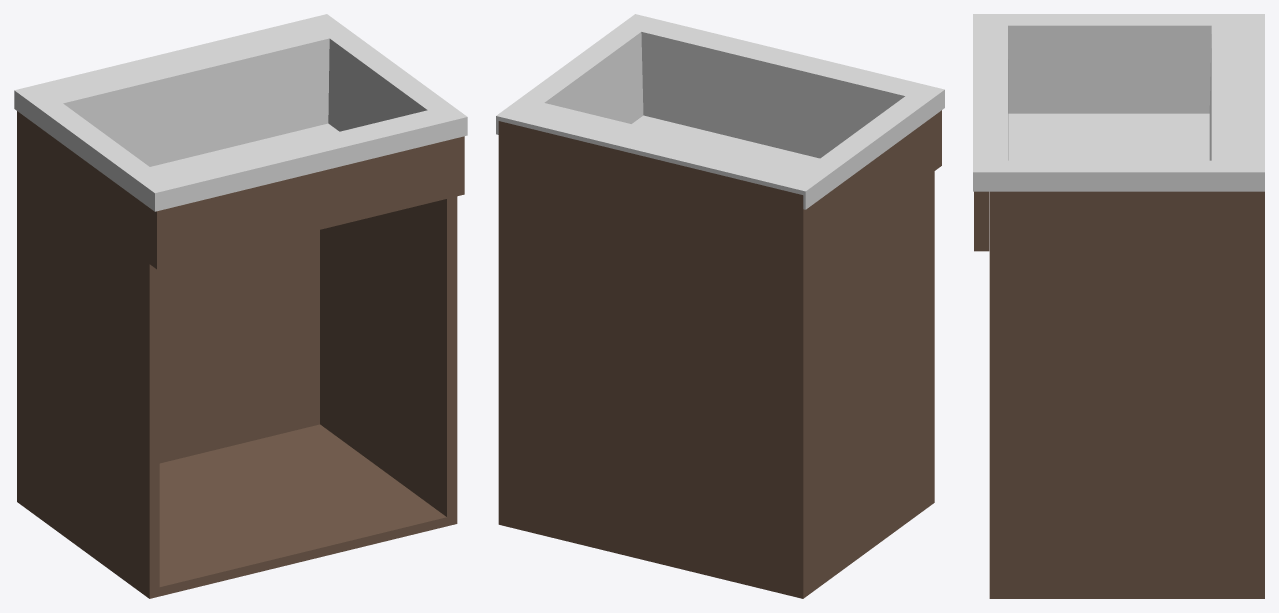
Rendered from Bathroom_C2_04.fbx.
3 views of the same model, side by side, from view 1: azimuth 30°, elevation 25°; view 2: azimuth 150°, elevation 25°; view 3: azimuth 270°, elevation 25° (orthographic). The views are drawn at different scales.
Parts seen in each view (by area): view 1: Bathroom_C2_04; view 2: Bathroom_C2_04; view 3: Bathroom_C2_04.
Boxes of the visible parts, x1,y1,x2,y2 form: Bathroom_C2_04: [14, 14, 467, 598]; Bathroom_C2_04: [496, 14, 944, 598]; Bathroom_C2_04: [973, 14, 1264, 598].
Bounding box in the file's own units: 61 × 76.82 × 47.51.
